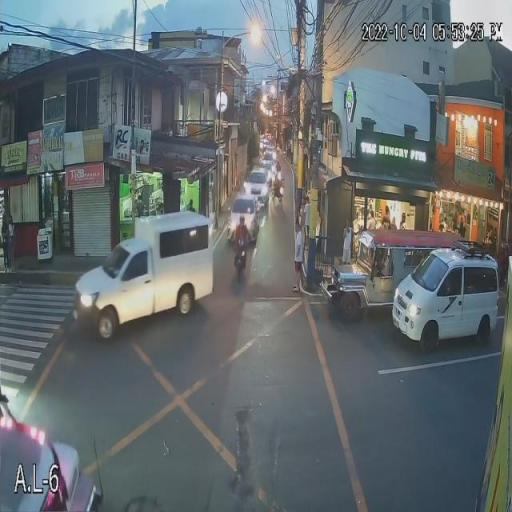helmet: (238, 214, 246, 226)
motorcycle: (232, 238, 247, 279), (274, 185, 285, 202)
rider: (235, 217, 246, 250), (276, 173, 285, 190)
